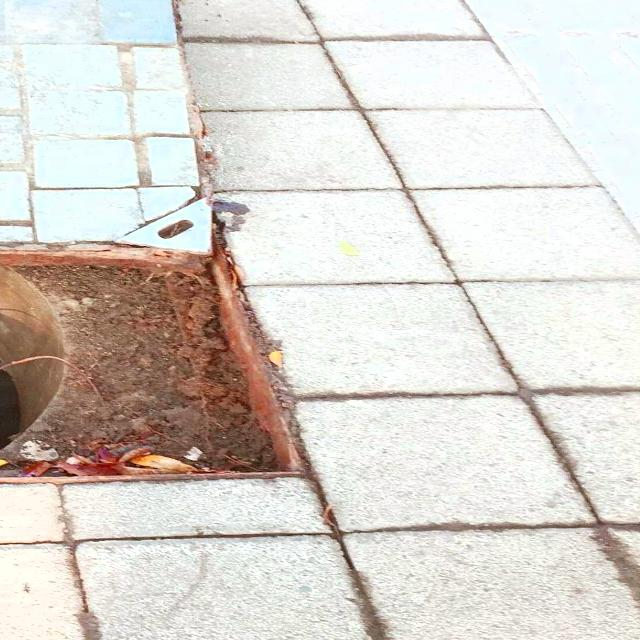uncovered: (0, 0, 337, 512)
